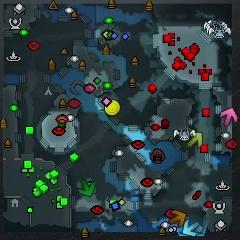p4: (104, 100, 120, 115)
x1: (220, 108, 238, 126)
x2: (187, 132, 203, 149)
x3: (183, 220, 199, 236)
x4: (78, 179, 95, 197)
x5: (169, 210, 186, 227)
